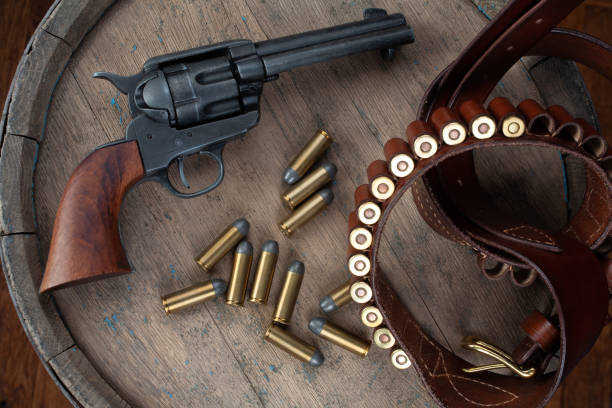gun: (40, 6, 414, 293)
